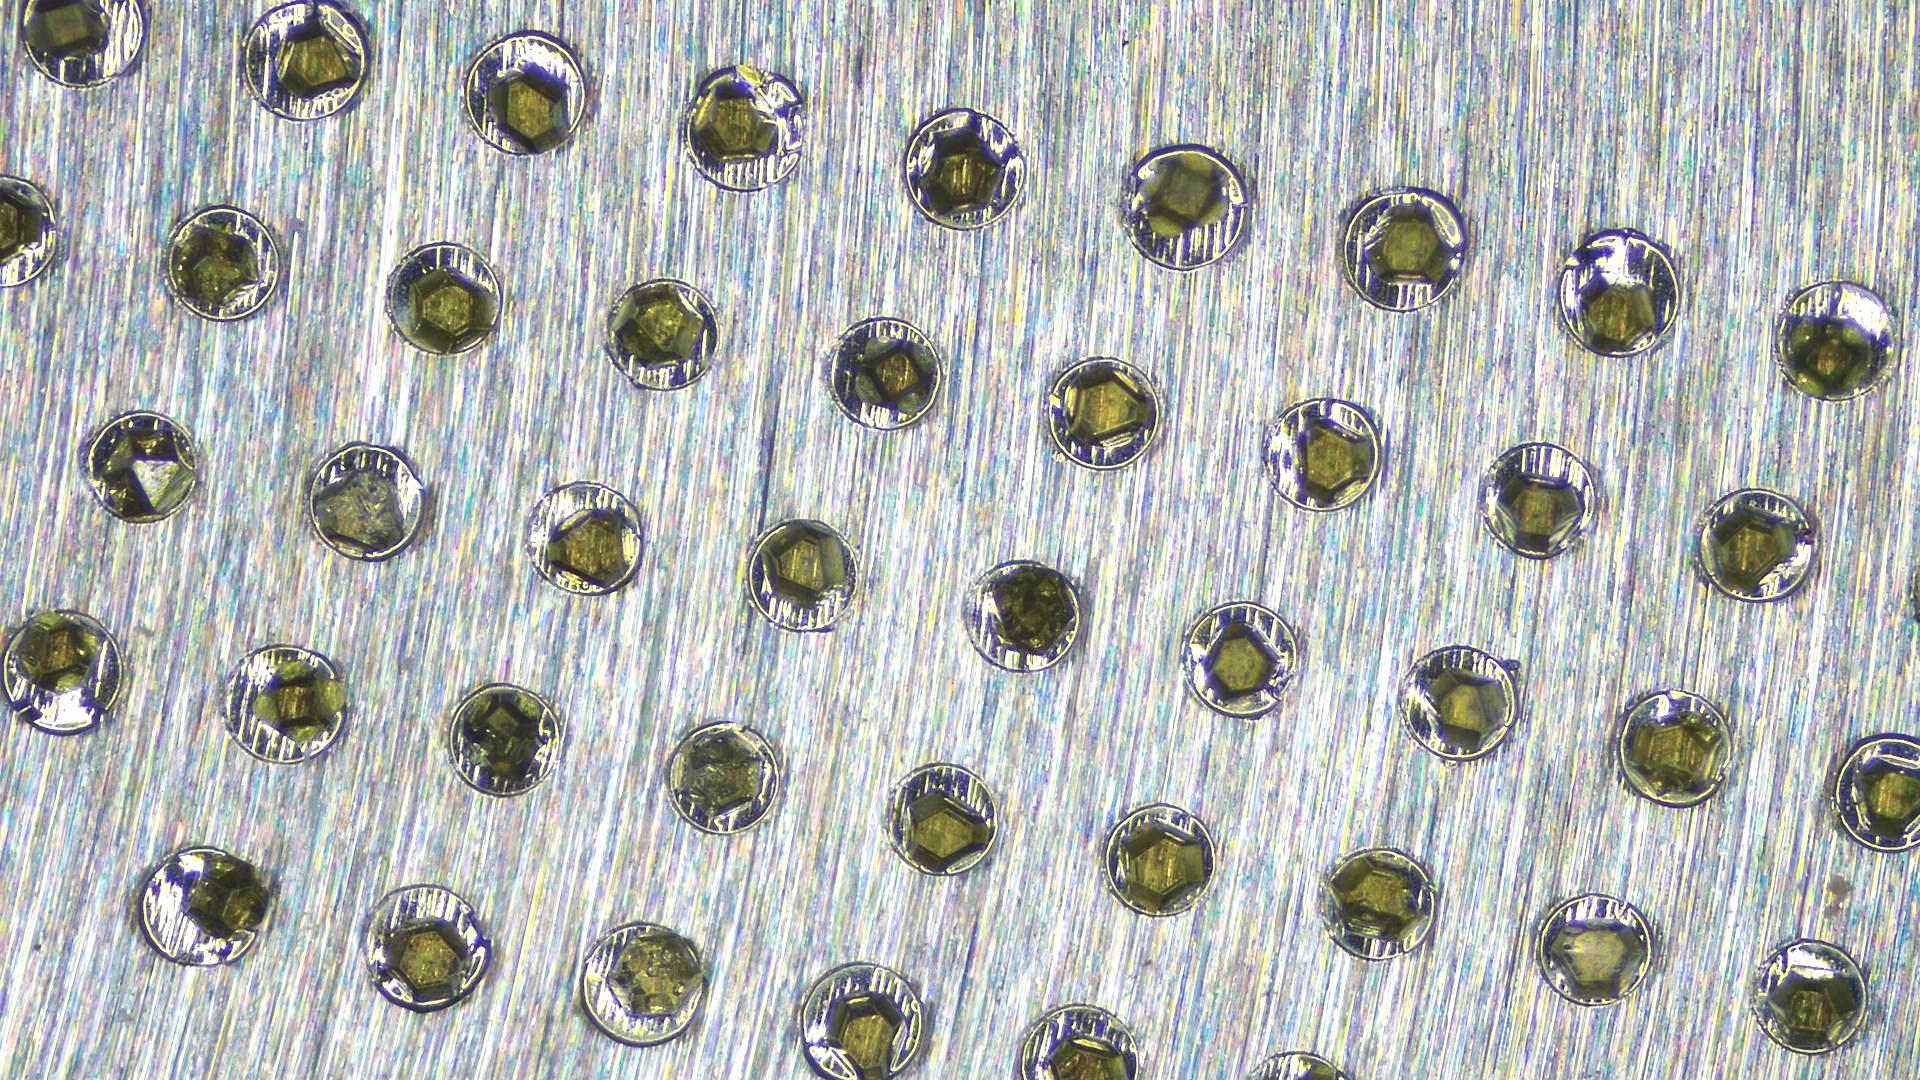break: (1317, 844, 1447, 975), (438, 679, 567, 808)
miss: (136, 845, 264, 973), (576, 914, 704, 1042), (4, 603, 132, 731)
